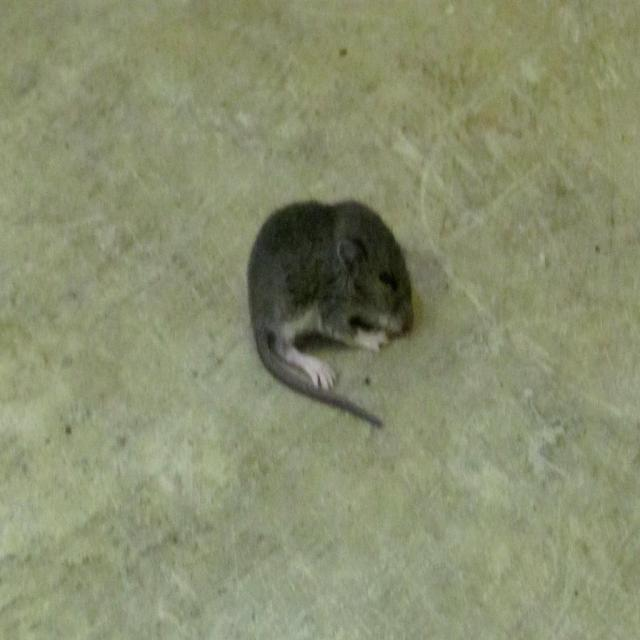rat: (247, 202, 412, 420)
